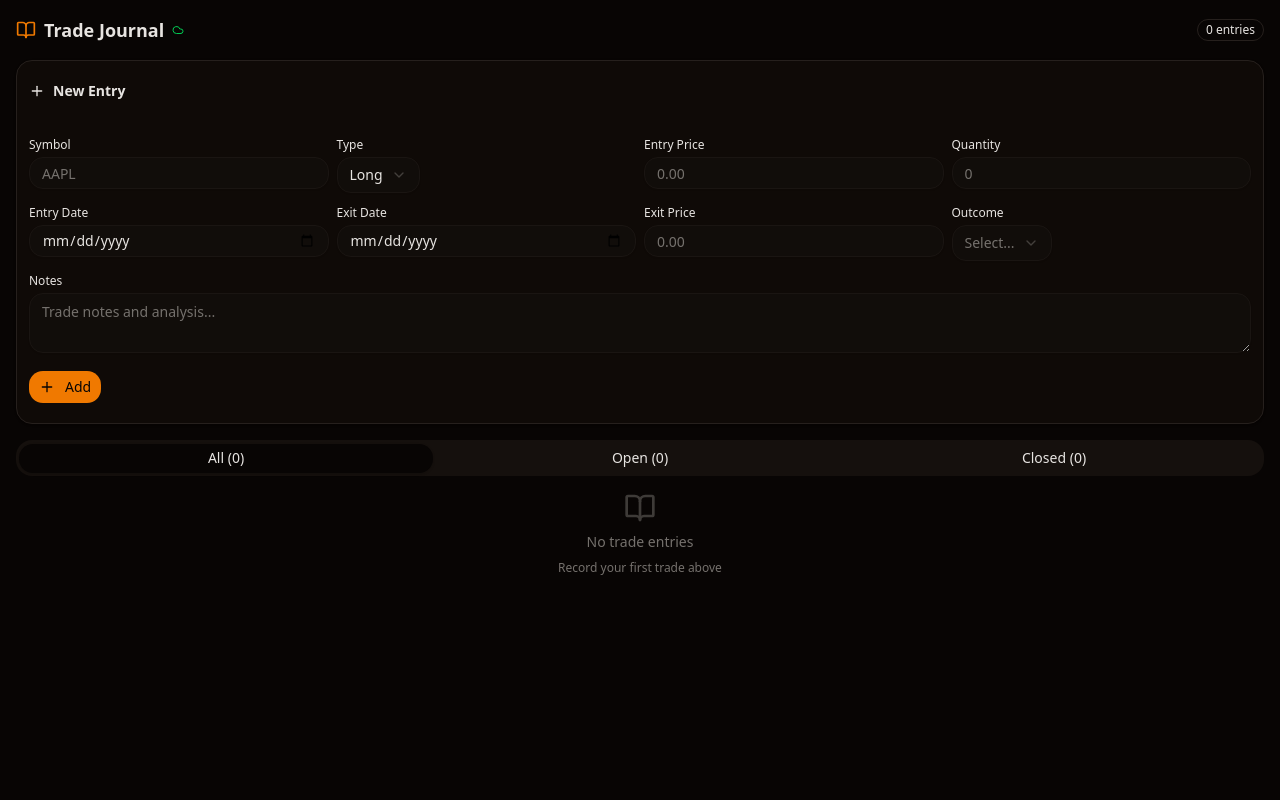
Test case: TradeJournal › Form Fields › updates entry price input
The image size is (1280, 800).
In the number field labelled "Entry Price": (794, 173) [644,157,944,189], type "150.50"
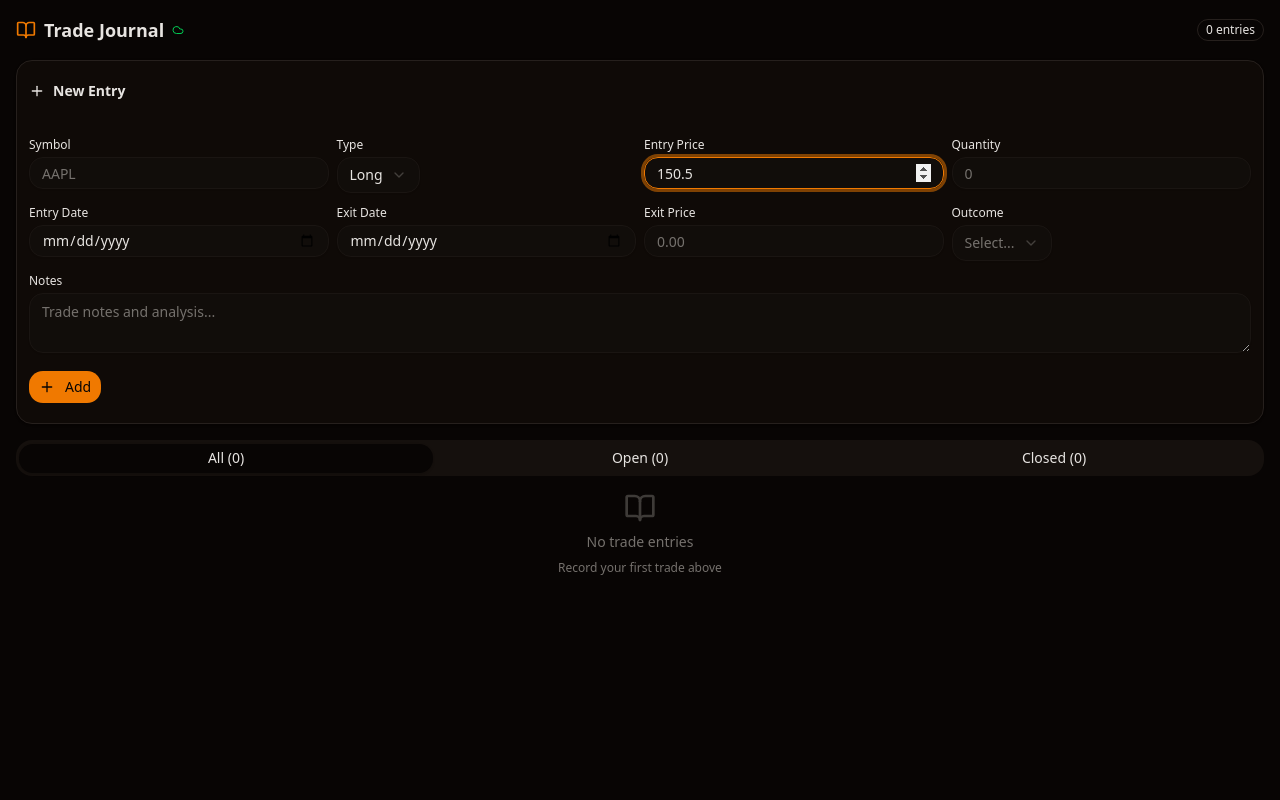
Result: the number field labelled "Entry Price" holds "150.5" at [644,157,944,189]
